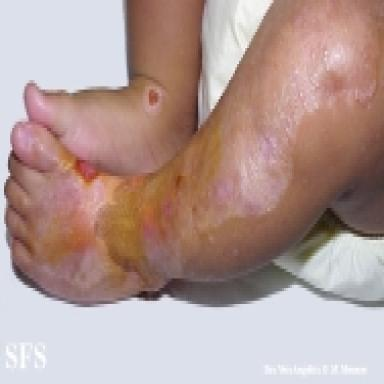Epidermolysis-Bullosa-Pruriginosa: (29, 0, 384, 307), (143, 82, 164, 116)
